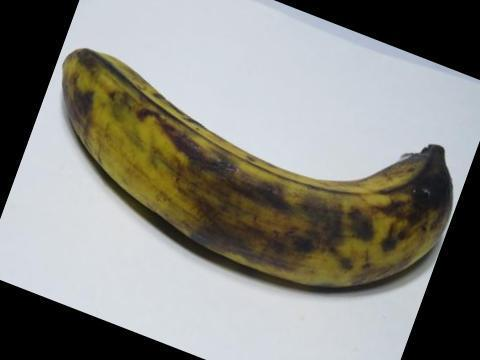overripe: (37, 41, 476, 328)
